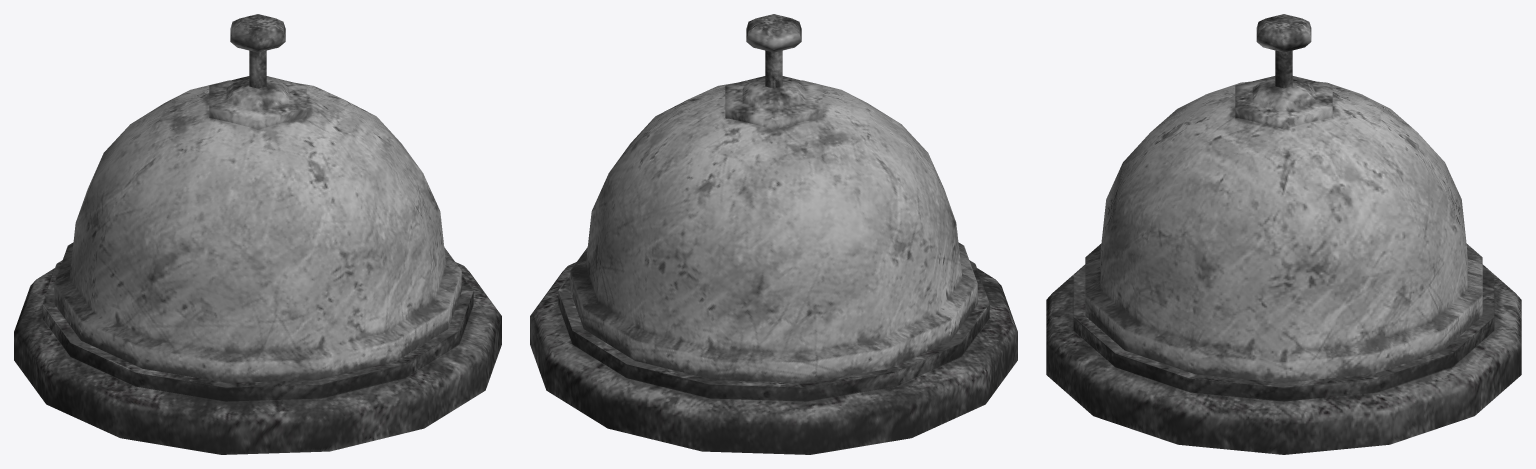
File: doorbell.glb
3 views of the same model, side by side, from view 1: azimuth 30°, elevation 25°; view 2: azimuth 150°, elevation 25°; view 3: azimuth 270°, elevation 25° (orthographic).
Visible parts, largest first — view 1: doorbell; view 2: doorbell; view 3: doorbell.
Part boxes in pixels (box(x1,y1,x2,y2)): doorbell: box(14, 14, 501, 454); doorbell: box(530, 14, 1017, 454); doorbell: box(1046, 14, 1521, 454).
Size of what is drawn, in the model's own units: 0.2374 by 0.1767 by 0.2314.
1 material, 1 textured.
